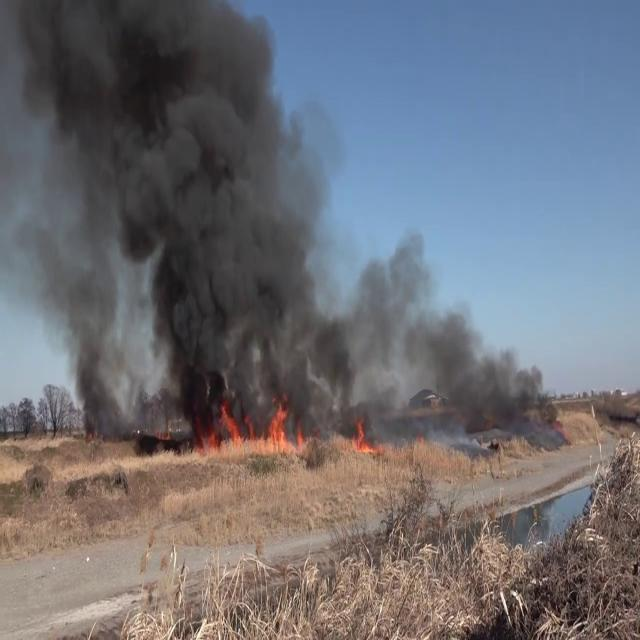Fire: (191, 390, 306, 458), (350, 411, 378, 457)
Smoke: (0, 0, 333, 429), (322, 230, 562, 436)
